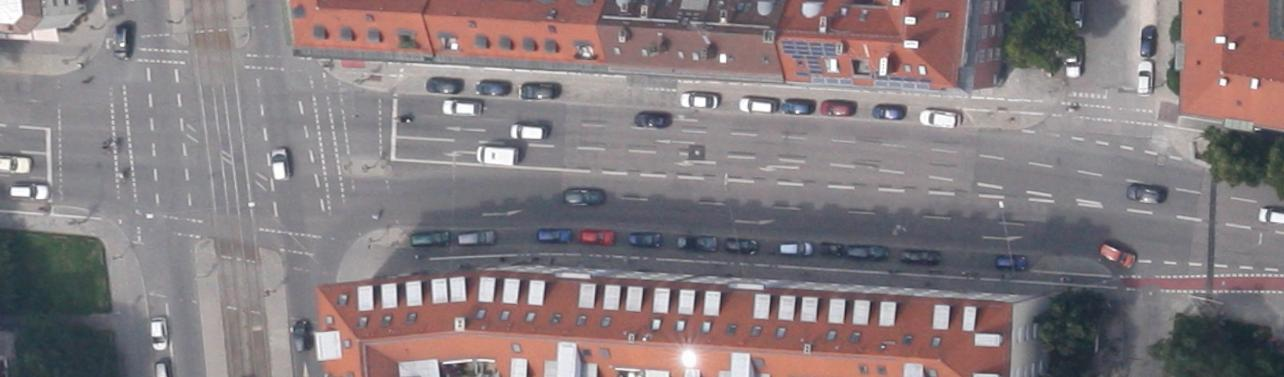car: (1098, 242, 1136, 270), (1126, 183, 1166, 204), (918, 109, 961, 128), (520, 81, 560, 100), (677, 234, 717, 252), (563, 188, 605, 205), (425, 76, 464, 94), (901, 248, 940, 266), (848, 244, 888, 261), (114, 24, 132, 61), (510, 122, 547, 140), (270, 147, 290, 180), (10, 184, 50, 200), (293, 318, 313, 350), (443, 100, 483, 116), (679, 92, 719, 108), (411, 231, 450, 247), (634, 111, 672, 127), (1066, 39, 1082, 77), (871, 103, 906, 120), (1136, 61, 1154, 94), (629, 231, 662, 249), (725, 238, 758, 256), (739, 98, 776, 114), (475, 80, 509, 97), (821, 100, 857, 116), (782, 98, 814, 116), (536, 228, 572, 244), (458, 230, 496, 245), (580, 229, 614, 245), (780, 240, 814, 256), (996, 254, 1026, 272), (150, 317, 166, 350), (1258, 206, 1284, 225), (1140, 26, 1156, 56), (819, 242, 844, 258), (1070, 2, 1084, 30)
